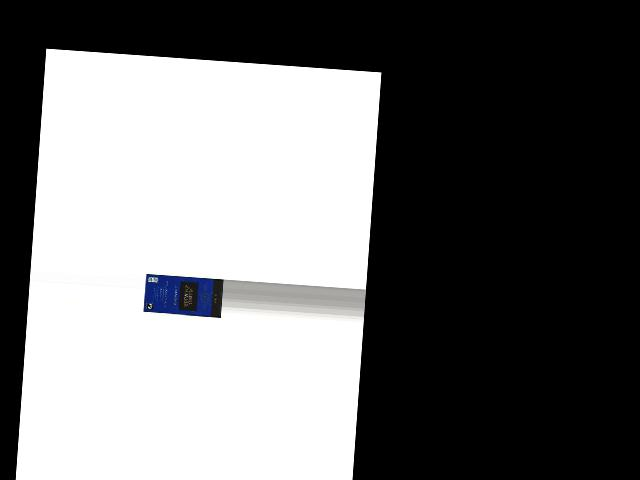chocolate: (144, 273, 223, 318)
